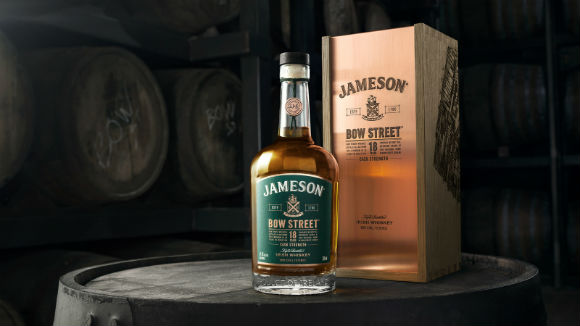Jameson: (245, 46, 341, 298)
